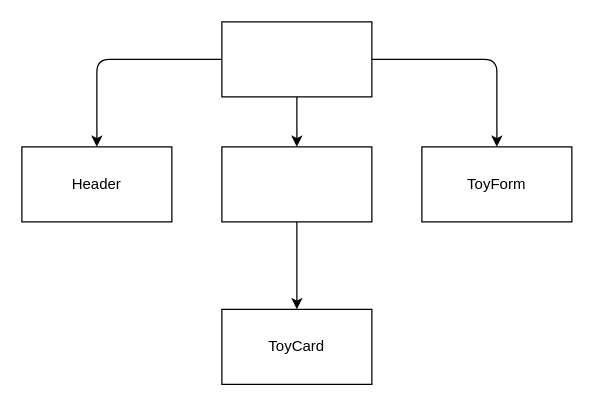
The diagram is 594 pixels wide and 406 high, and some of its shapes have lost their labels. Each missing label, with the centre of its shape:
"Application" belongs at (296,59).
"ToyContainer" belongs at (296,184).
